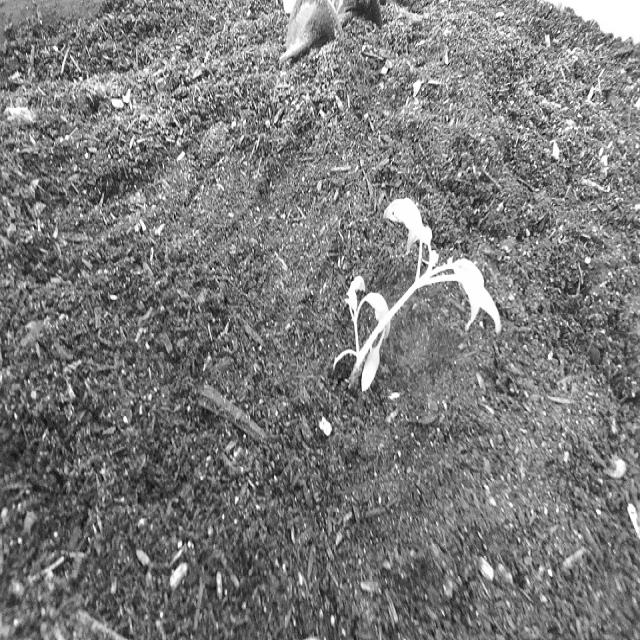Healthy: (328, 194, 507, 408)
